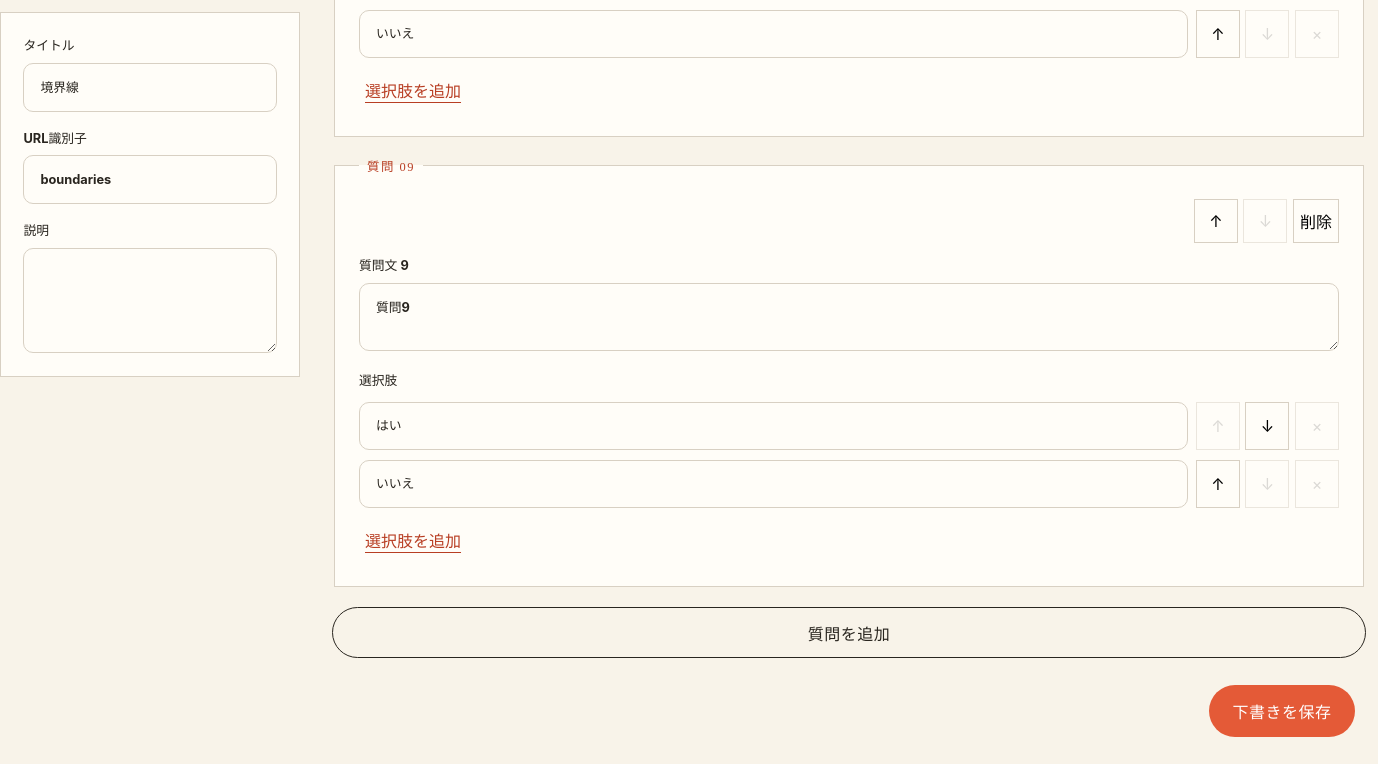
Test case: allows at most ten questions and keeps at least two options
(page scrolled)
Click the button "質問を追加" at (849, 632), box x1=332 y1=607 x2=1366 y2=658
(page scrolled)
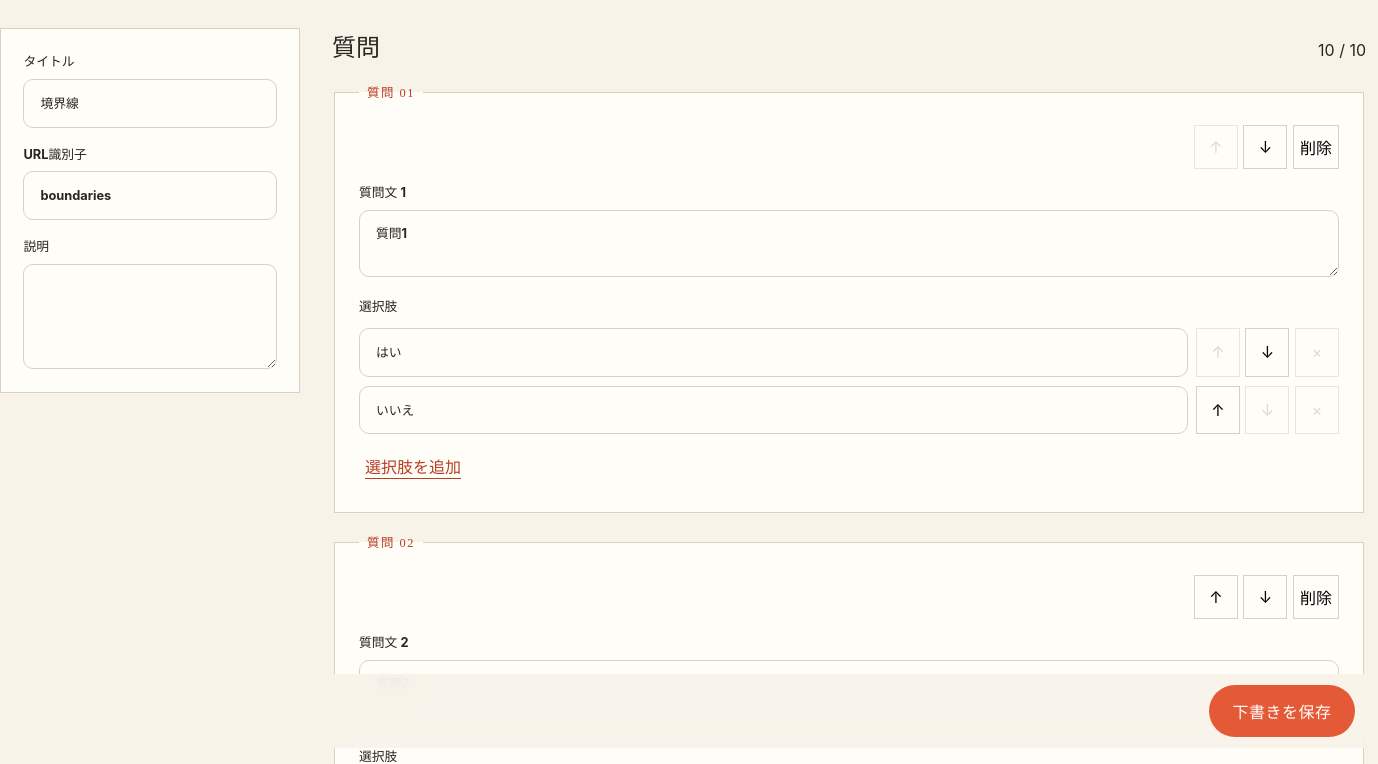
Check: the button named "1問目の選択肢1を削除" is disabled, box x1=1295 y1=328 x2=1339 y2=376
Check: the number of elements "質問 01 ↑ ↓ 削除 質問文 1 選択肢 ↑ ↓ × ↑ ↓ × 選択肢を追加" is 10
